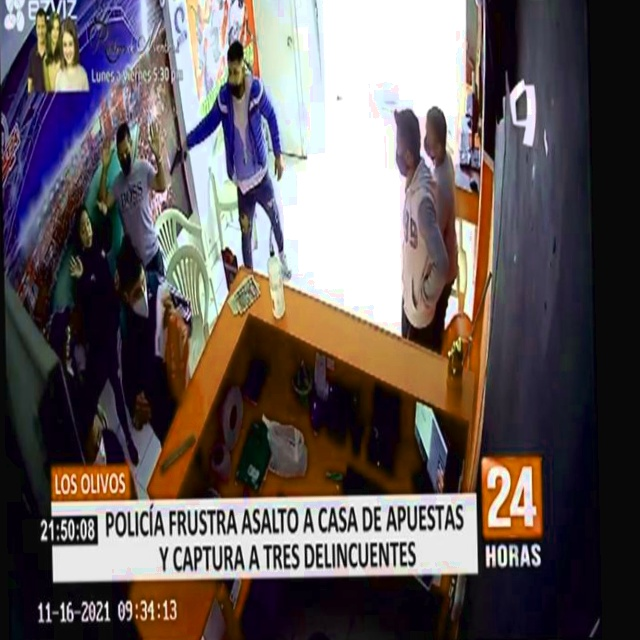gun: (166, 126, 191, 187)
